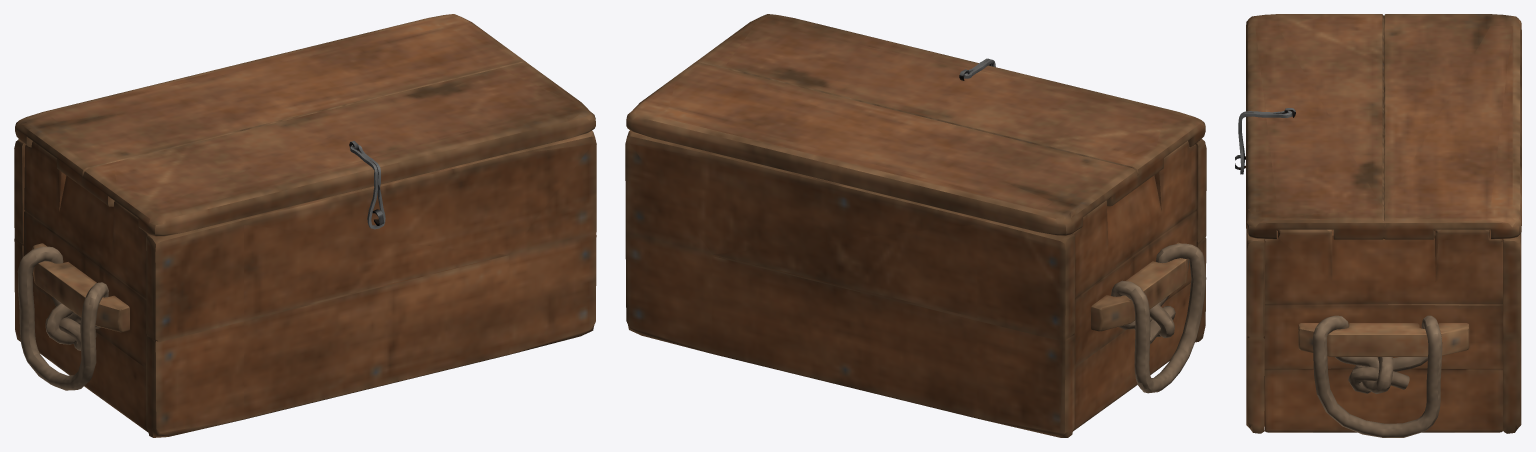
Rendered from crate_wood.glb.
The picture shows the model from 3 angles, left to right: view 1: azimuth 30°, elevation 25°; view 2: azimuth 150°, elevation 25°; view 3: azimuth 270°, elevation 25°; orthographic projection. The views are drawn at different scales.
Visible parts, largest first — view 1: mesh; view 2: mesh; view 3: mesh.
Boxes of the visible parts, left/top/right/bottom form: mesh: left=14, top=14, right=596, bottom=437; mesh: left=625, top=14, right=1206, bottom=437; mesh: left=1235, top=14, right=1521, bottom=437.
Size of the model in its own units: 0.8253 by 0.3496 by 0.4076.
1 material, 1 textured.
